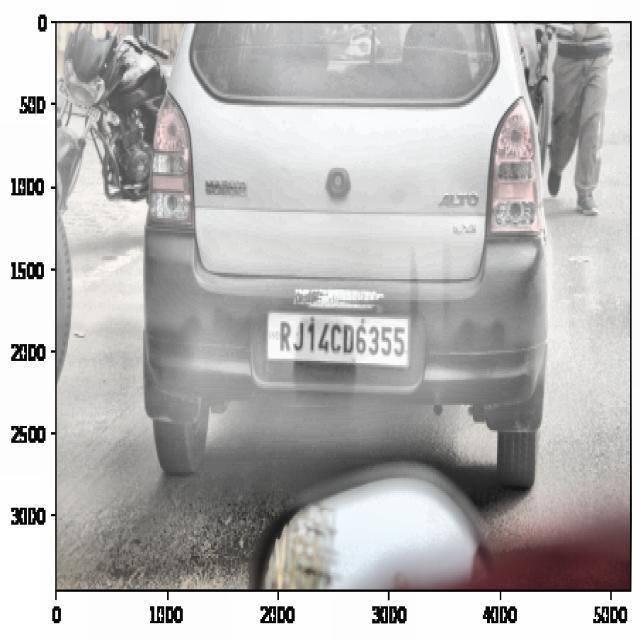license_plate: (273, 311, 410, 370)
